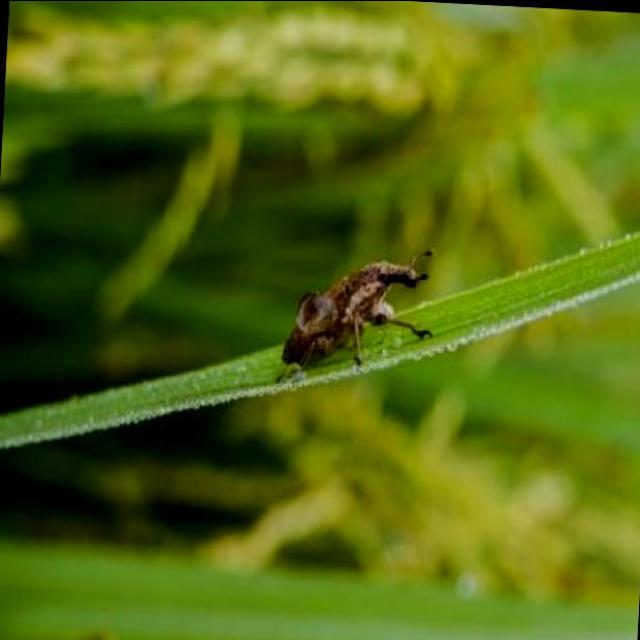ricebug: (284, 260, 430, 365)
